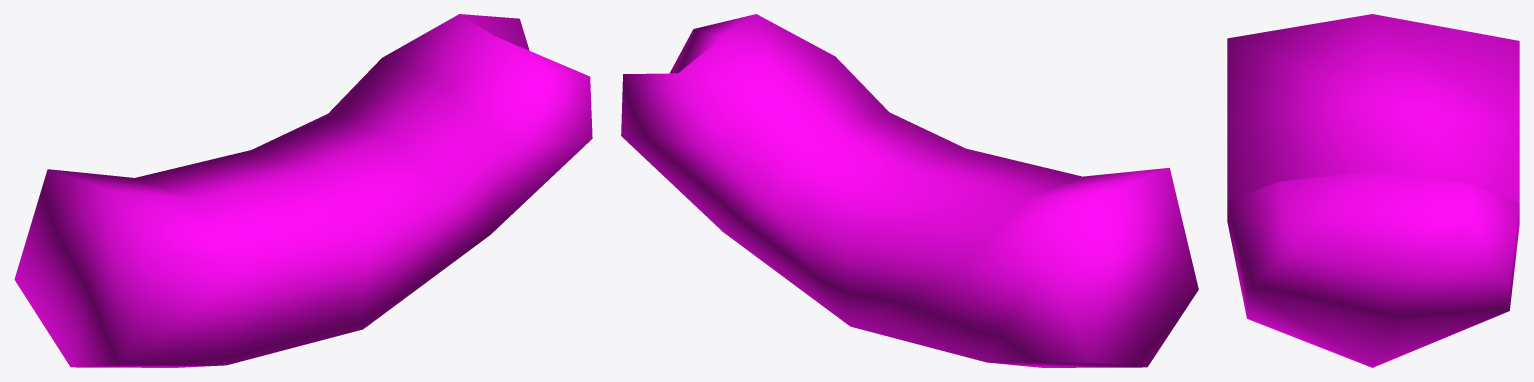
File: grab_meshCollider.fbx
3 renders of one model, left to right at view 1: azimuth 30°, elevation 25°; view 2: azimuth 150°, elevation 25°; view 3: azimuth 270°, elevation 25°, orthographic. The views are drawn at different scales.
Visible parts, largest first — view 1: foods_grab_meshCollider; view 2: foods_grab_meshCollider; view 3: foods_grab_meshCollider.
Boxes of the visible parts, x1=… form: foods_grab_meshCollider: x1=14, y1=14, x2=592, y2=367; foods_grab_meshCollider: x1=621, y1=14, x2=1198, y2=367; foods_grab_meshCollider: x1=1227, y1=14, x2=1519, y2=367.
Size of the model in its own units: 26.13 by 12.99 by 11.14.
